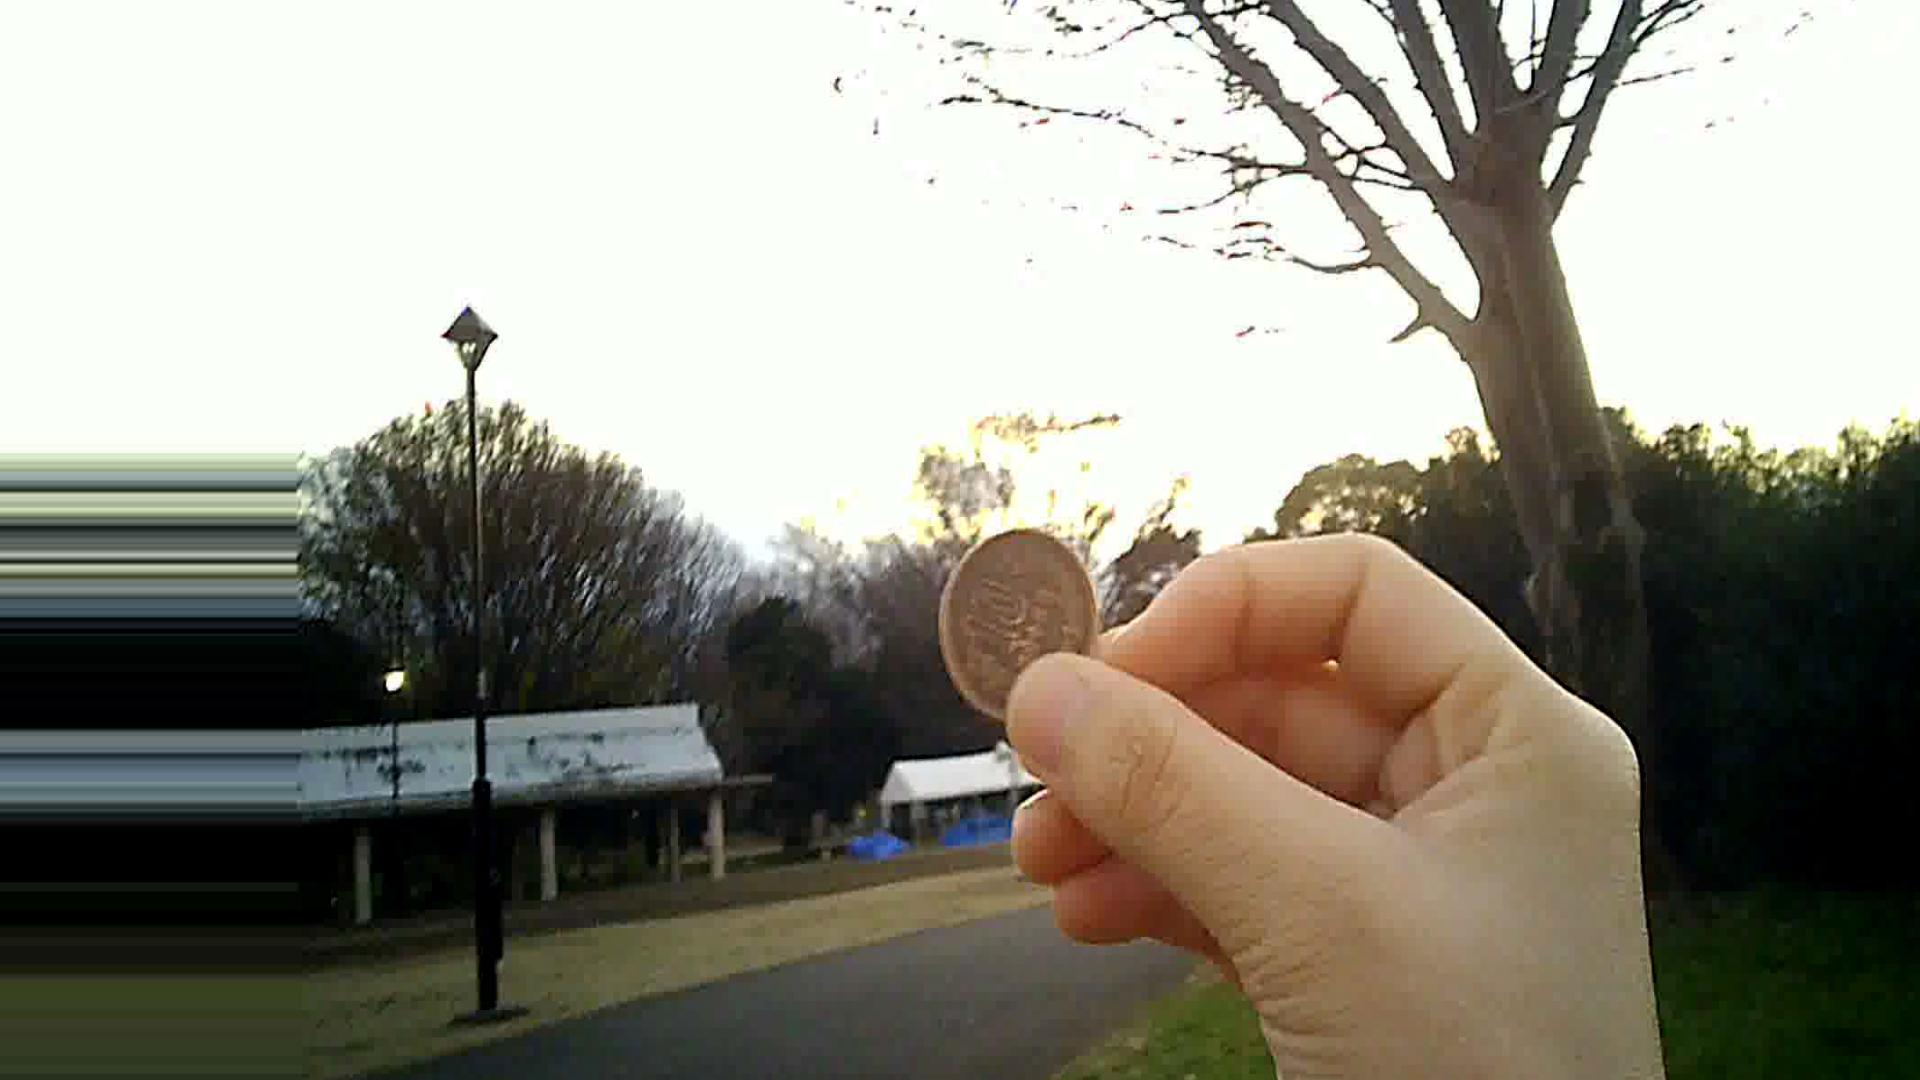10 Yen: (943, 529, 1101, 737)
